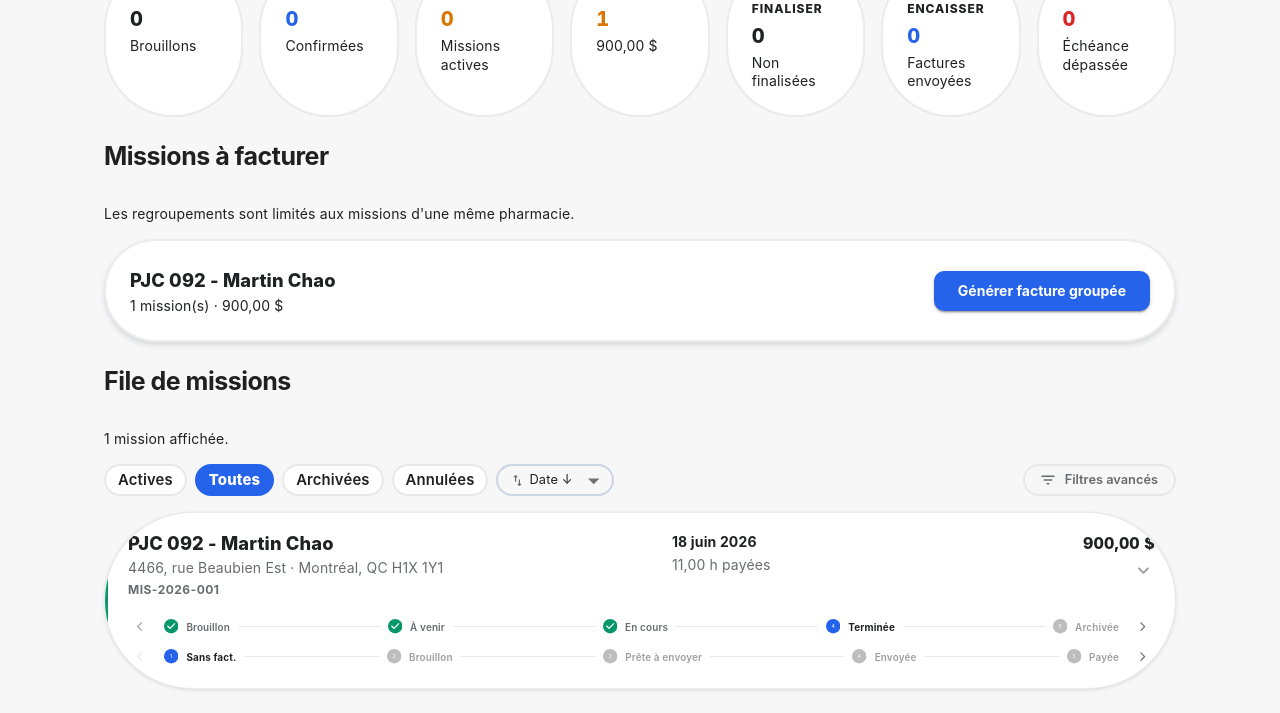
MissionsPage render › shows Créer la facture CTA in drawer for completed missions without invoice
(page scrolled)
Click the button "MIS-2026-001": (640, 601) [105, 514, 1175, 688]
(page scrolled)
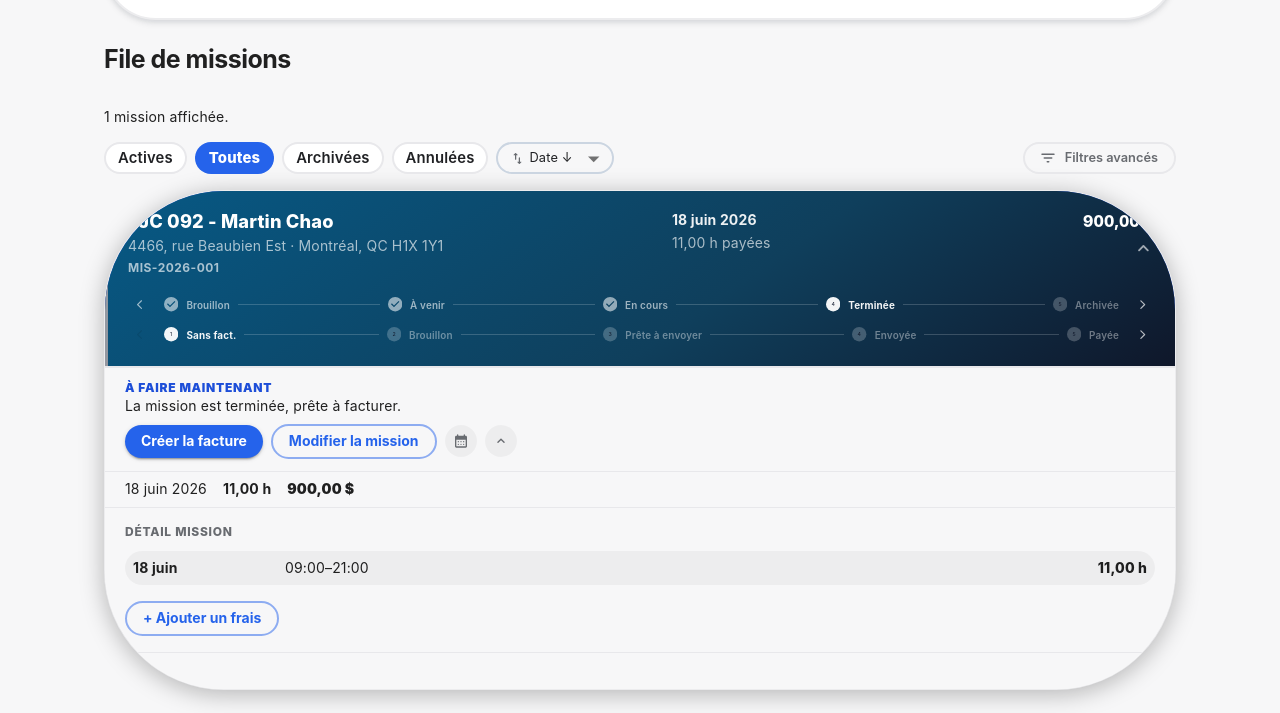
Now the element with test id "mission-detail-panel" is shown, box [105, 366, 1175, 689]
Now the button "Créer la facture" is shown, box [125, 425, 263, 458]
Now the button "Modifier la mission" is shown, box [271, 424, 437, 459]
